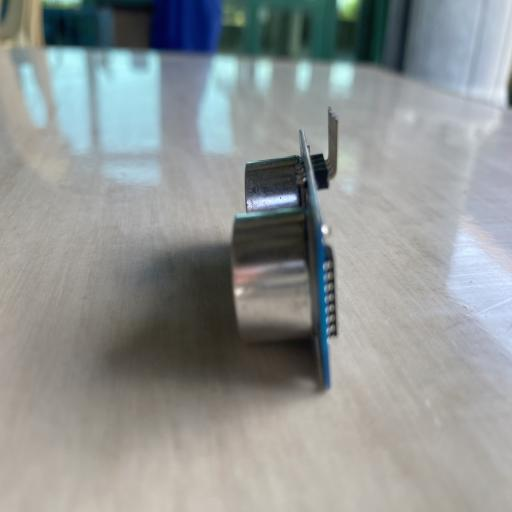Ultrasonic Sensor: (230, 104, 340, 390)
